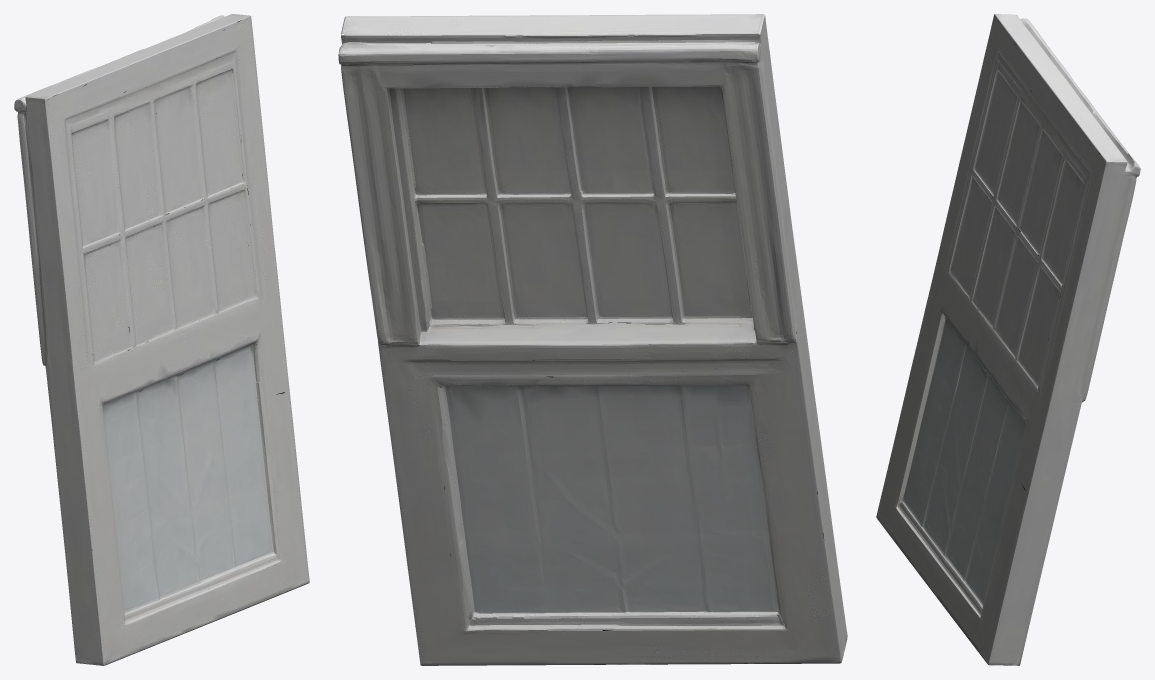
File: window_on_left_000.glb
The picture shows the model from 3 angles, left to right: view 1: azimuth 30°, elevation 25°; view 2: azimuth 150°, elevation 25°; view 3: azimuth 270°, elevation 25°; orthographic projection. The views are drawn at different scales.
Visible parts, largest first — view 1: window_on_left_000.obj; view 2: window_on_left_000.obj; view 3: window_on_left_000.obj.
Part boxes in pixels (x1,y1,x2,y2): window_on_left_000.obj: (14, 14, 309, 665); window_on_left_000.obj: (338, 14, 847, 665); window_on_left_000.obj: (876, 14, 1140, 665).
Bounding box in the file's own units: 0.4553 × 0.8634 × 0.3873.
1 material, 1 textured.
